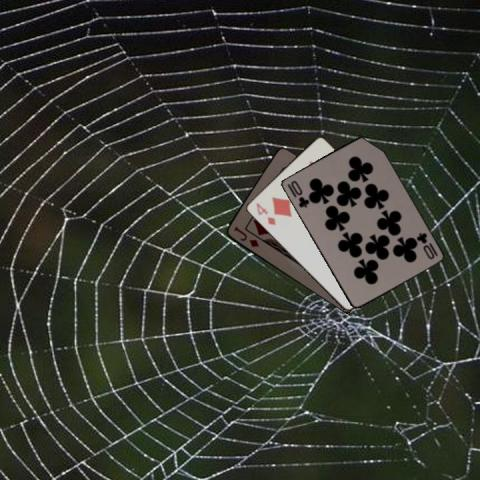10c: (284, 178, 311, 210), (413, 229, 439, 261)
4d: (252, 199, 276, 227)
Jd: (231, 222, 260, 248)
